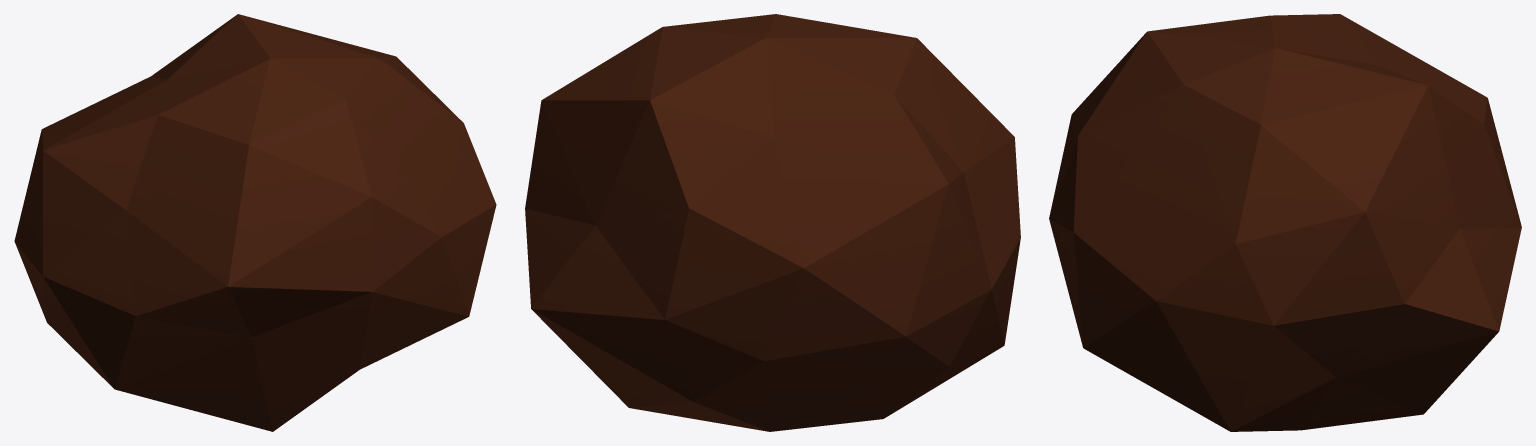
Rendered from rock_brown_l.glb.
3 renders of one model, left to right at view 1: azimuth 30°, elevation 25°; view 2: azimuth 150°, elevation 25°; view 3: azimuth 270°, elevation 25°, orthographic. The views are drawn at different scales.
Visible parts, largest first — view 1: rock_brown_l_root_body; view 2: rock_brown_l_root_body; view 3: rock_brown_l_root_body.
Boxes of the visible parts, x1,y1,x2,y2 form: rock_brown_l_root_body: [14, 14, 496, 431]; rock_brown_l_root_body: [525, 14, 1020, 431]; rock_brown_l_root_body: [1049, 14, 1521, 431].
Bounding box in the file's own units: 1.32 × 1.01 × 1.2.
